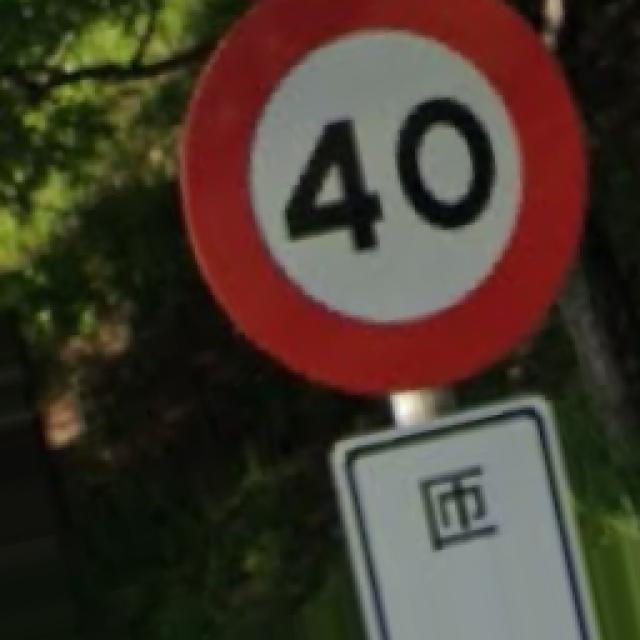Speed Limit -40-: (180, 0, 582, 390)
